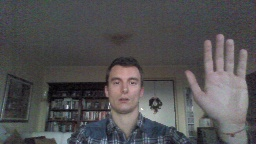Mano_aperta: (182, 31, 251, 129)
